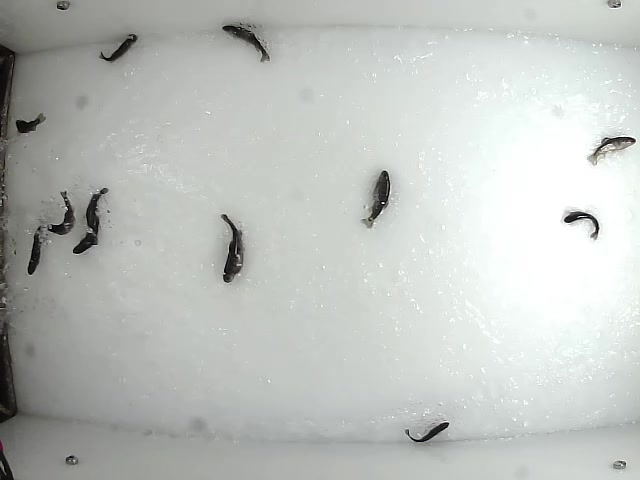fish: (218, 23, 273, 65), (359, 167, 392, 231), (219, 212, 246, 284), (586, 134, 637, 167), (43, 188, 77, 236), (94, 31, 139, 64), (403, 418, 451, 446), (561, 209, 602, 241), (86, 186, 108, 239), (26, 221, 46, 277), (9, 113, 50, 135), (72, 226, 96, 255)
